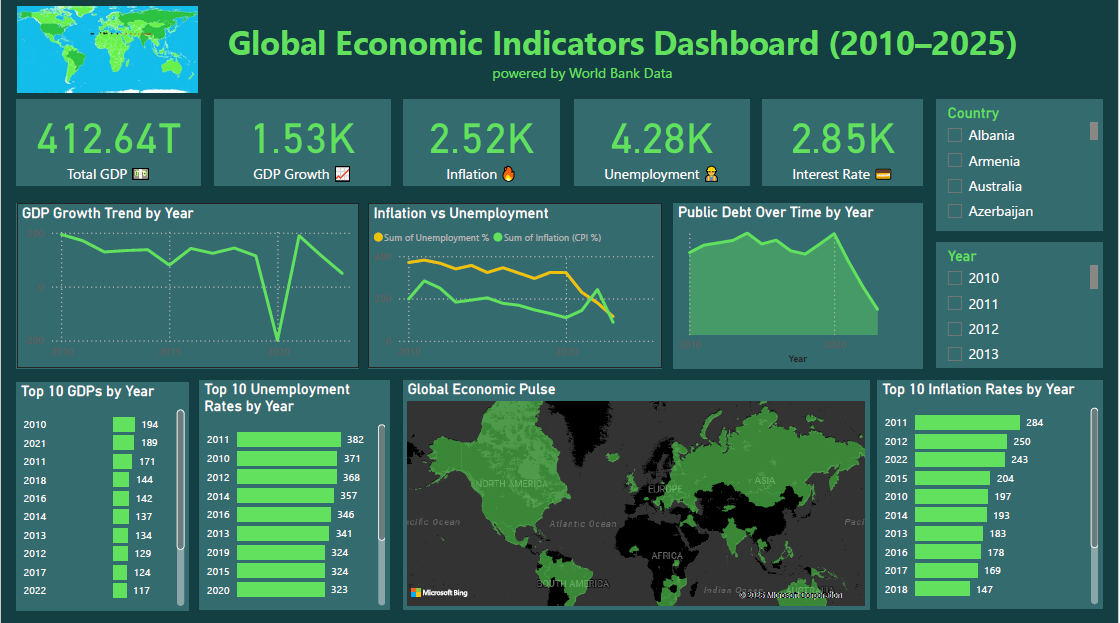

The dashboard page shown, as its layout file describes it:
{"tool":"powerbi","page":{"name":"Page 1","canvas":[1280,720],"ordinal":0},"visuals":[{"type":"textbox","box":[162.4,22,1008.9,79.8],"z":0},{"type":"card","fields":{"Values":["Sum(IndicatorsTable.GDP (Current USD))"]},"box":[17.9,118.4,210.6,99.1],"z":1000},{"type":"card","fields":{"Values":["Sum(IndicatorsTable.GDP Growth %)"]},"box":[245,118.4,200.9,99.1],"z":2000},{"type":"card","fields":{"Values":["Sum(IndicatorsTable.Inflation (CPI %))"]},"box":[461.1,118.4,178.9,99.1],"z":3000},{"type":"card","fields":{"Values":["Sum(IndicatorsTable.Unemployment %)"]},"box":[656.5,118.4,200.9,99.1],"z":4000},{"type":"card","fields":{"Values":["Sum(IndicatorsTable.Interest Rate (Real, %))"]},"box":[872.6,118.4,183.1,99.1],"z":5000},{"type":"lineChart","fields":{"Category":["DateTable.Date.Variation.Date Hierarchy.Year","DateTable.Date.Variation.Date Hierarchy.Quarter","DateTable.Date.Variation.Date Hierarchy.Month","DateTable.Date.Variation.Date Hierarchy.Day"],"Y":["Sum(IndicatorsTable.GDP Growth %)"]},"box":[17.9,236.7,392.3,188.6],"z":6000},{"type":"areaChart","fields":{"Category":["DateTable.Year"],"Y":["Sum(IndicatorsTable.Public Debt (% of GDP))"]},"box":[770.8,236.7,284.9,188.6],"z":7000},{"type":"lineChart","title":"Inflation vs Unemployment","fields":{"Category":["DateTable.Year"],"Y":["Sum(IndicatorsTable.Unemployment %)","Sum(IndicatorsTable.Inflation (CPI %))"]},"box":[421.2,236.7,335.8,188.6],"z":8000},{"type":"clusteredBarChart","fields":{"Category":["DateTable.Year"],"Y":["Sum(IndicatorsTable.GDP Growth %)"]},"box":[17.9,441.8,196.8,261.5],"z":9000},{"type":"clusteredBarChart","fields":{"Category":["DateTable.Year"],"Y":["Sum(IndicatorsTable.Unemployment %)"]},"box":[228.5,440.4,217.5,262.9],"z":10000},{"type":"clusteredBarChart","fields":{"Category":["DateTable.Year"],"Y":["Sum(IndicatorsTable.Inflation (CPI %))"]},"box":[1004.7,440.4,257.4,261.5],"z":11000},{"type":"filledMap","title":"Global Economic Pulse","fields":{"Category":["CountryTable.country_name"]},"box":[461.1,440.4,534,262.9],"z":12000},{"type":"slicer","fields":{"Values":["CountryTable.country_name"]},"box":[1072.2,118.4,189.9,150],"z":13000},{"type":"slicer","fields":{"Values":["DateTable.Year"]},"box":[1072.2,282.2,189.9,143.1],"z":14000},{"type":"image","box":[13.8,1.4,216.1,119.7],"z":15000}]}

Visuals, with their boxes in screenshot pixels (x1, y1, x2, y2), scaled from the page's 1280x720 canvas onto the 1120x623 screenshot:
textbox: box(142, 19, 1025, 88)
card - Sum(IndicatorsTable.GDP (Current USD)): box(16, 102, 200, 188)
card - Sum(IndicatorsTable.GDP Growth %): box(214, 102, 390, 188)
card - Sum(IndicatorsTable.Inflation (CPI %)): box(403, 102, 560, 188)
card - Sum(IndicatorsTable.Unemployment %): box(574, 102, 750, 188)
card - Sum(IndicatorsTable.Interest Rate (Real, %)): box(764, 102, 924, 188)
lineChart - DateTable.Date.Variation.Date Hierarchy.Year x DateTable.Date.Variation.Date Hierarchy.Quarter: box(16, 205, 359, 368)
areaChart - DateTable.Year x Sum(IndicatorsTable.Public Debt (% of GDP)): box(674, 205, 924, 368)
"Inflation vs Unemployment" lineChart: box(369, 205, 662, 368)
clusteredBarChart - DateTable.Year x Sum(IndicatorsTable.GDP Growth %): box(16, 382, 188, 609)
clusteredBarChart - DateTable.Year x Sum(IndicatorsTable.Unemployment %): box(200, 381, 390, 609)
clusteredBarChart - DateTable.Year x Sum(IndicatorsTable.Inflation (CPI %)): box(879, 381, 1104, 607)
"Global Economic Pulse" filledMap: box(403, 381, 871, 609)
slicer - CountryTable.country_name: box(938, 102, 1104, 232)
slicer - DateTable.Year: box(938, 244, 1104, 368)
image: box(12, 1, 201, 105)
